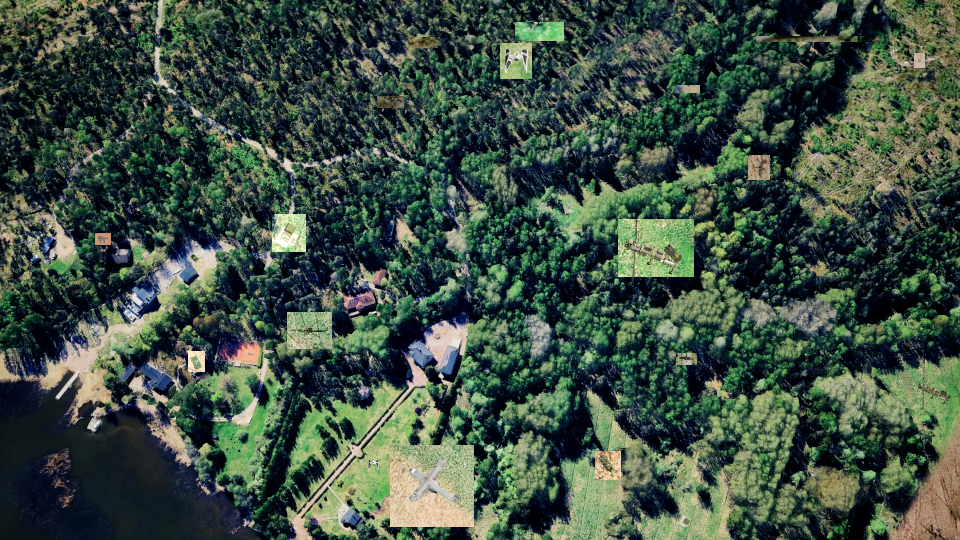condor: (390, 445, 474, 527)
hangar: (756, 36, 881, 42)
helicopter: (287, 312, 332, 349)
jammer: (188, 351, 205, 372)
jet_plane: (515, 22, 564, 41)
large_launcher: (618, 219, 694, 277)
large_tower: (377, 96, 404, 108)
medium_launcher: (410, 37, 438, 48)
medium_plane: (676, 353, 697, 365)
mine_roller: (595, 451, 621, 480)
small_launcher: (914, 53, 925, 68)
small_plane: (748, 155, 770, 180)
small_tower: (272, 214, 306, 252)
spacecraft: (500, 43, 532, 79)
ta-ta: (95, 233, 111, 245)
tank: (675, 85, 700, 93)
